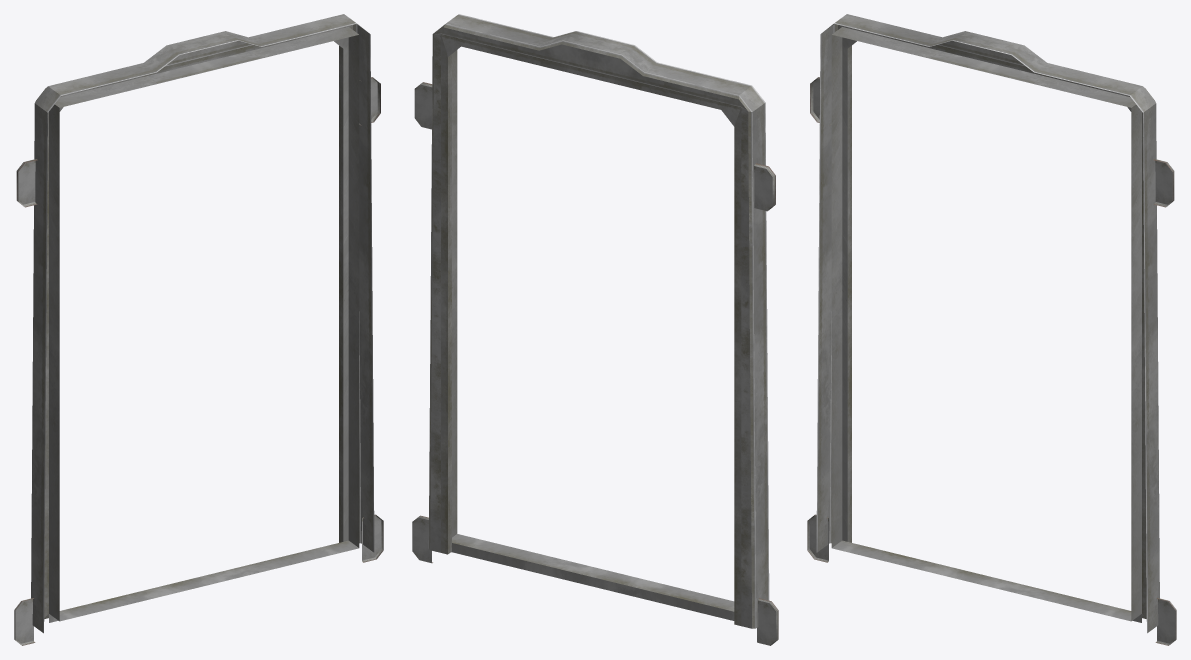
Rendered from HCZ_Doors_Doorframe.fbx.
3 views of the same model, side by side, from view 1: azimuth 30°, elevation 25°; view 2: azimuth 150°, elevation 25°; view 3: azimuth 330°, elevation 25° (orthographic).
Visible parts, largest first — view 1: HCZ_DoorFrame; view 2: HCZ_DoorFrame; view 3: HCZ_DoorFrame.
Part boxes in pixels (<box>): HCZ_DoorFrame: <box>14,14,383,645</box>; HCZ_DoorFrame: <box>412,14,778,645</box>; HCZ_DoorFrame: <box>807,14,1176,645</box>.
Size of what is drawn, in the model's own units: 177 by 258 by 12.48.
